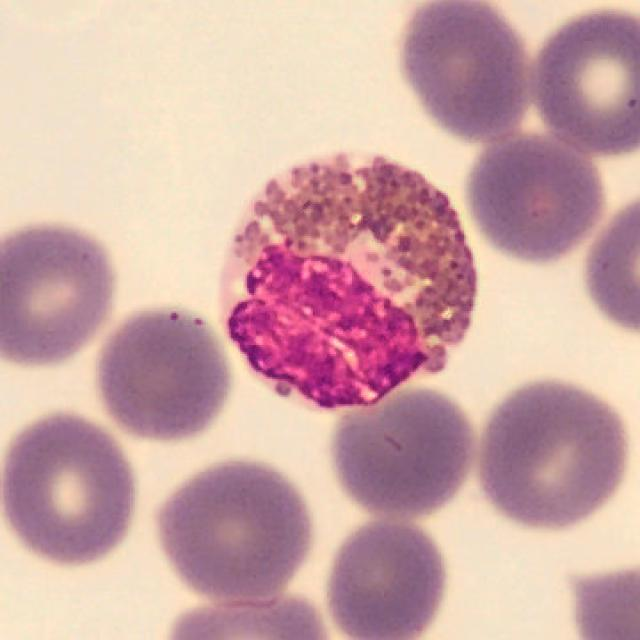Eosinofilo: (217, 150, 478, 413)
